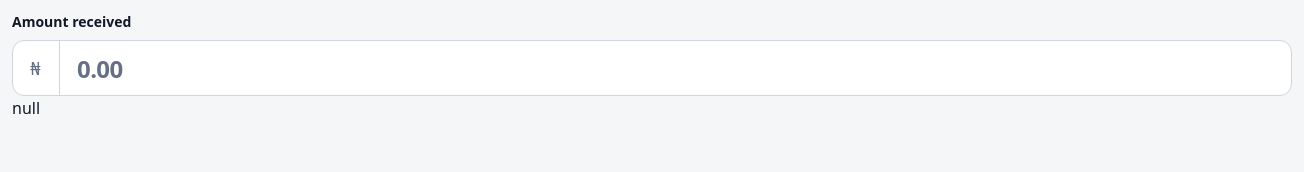
Scenario: MoneyInput › shows an inline error for 1.234 and keeps the text as typed
Type "1.234" into the field labelled "Amount received".
click(652, 68); type("1.234")  # box 12,40 -> 1292,96
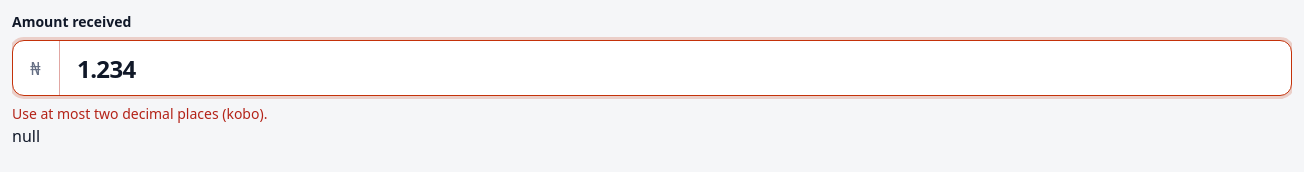
expect the text with test id "kobo" reads "null": met, box 12,125 -> 40,147
expect the message reads "Use at most two decimal places (kobo).": met, box 12,104 -> 267,123
